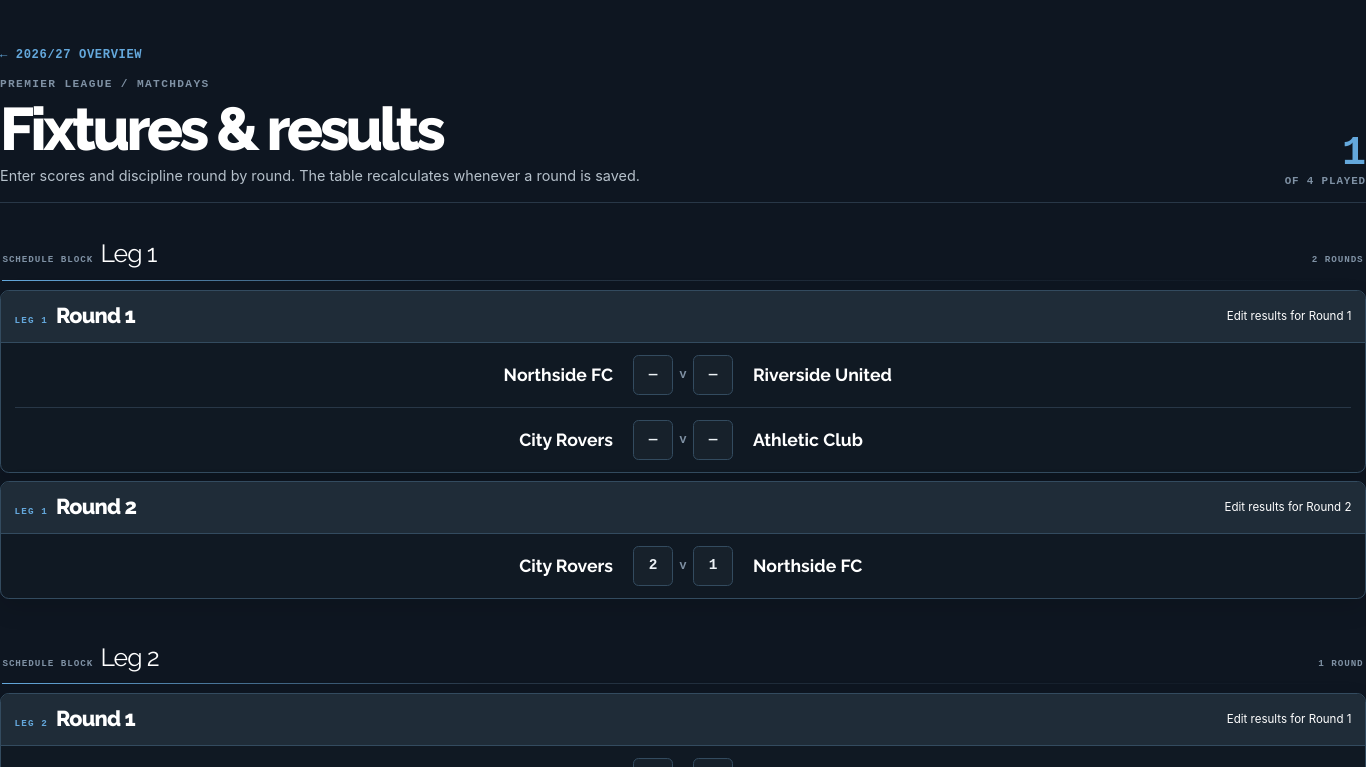
Scenario: season fixtures view › clears a score back to null
Click the button "Edit results for Round 2" at (1288, 507), box [1224,489,1351,525]
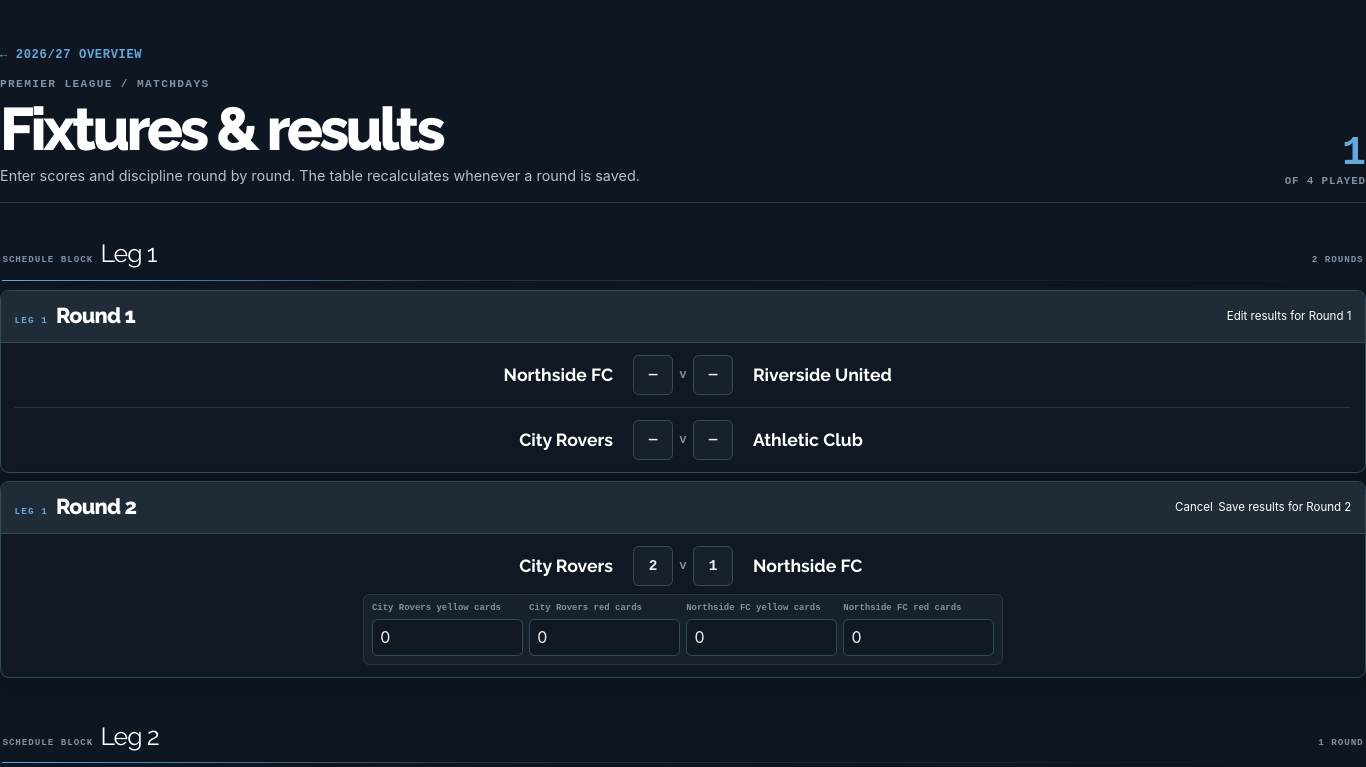
Expected: the 1st number field named "City Rovers score" holds "2"
Clear the 1st number field named "City Rovers score" at (653, 566), box [633,546,673,586]
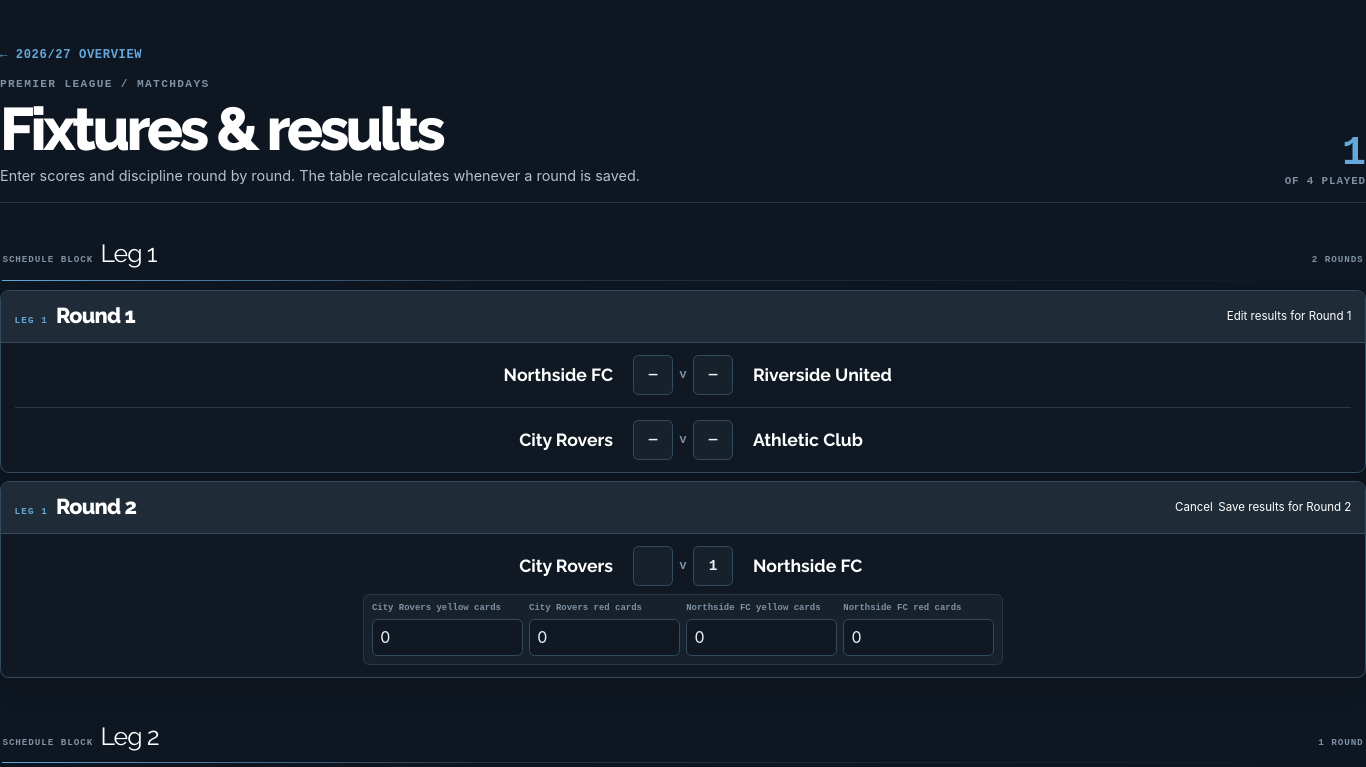
Click the button "Save results for Round 2" at (1285, 507), box [1218,489,1351,525]
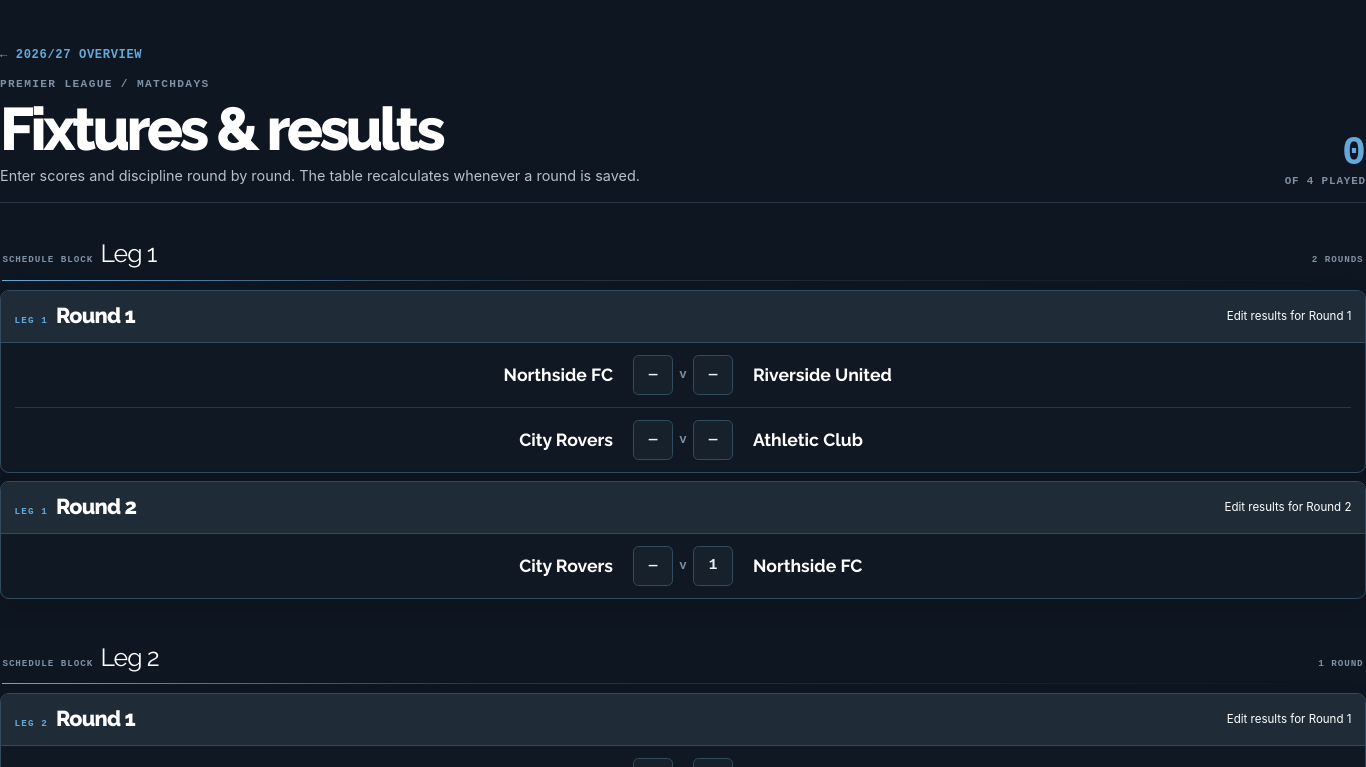
Expected: the element named "Fixture progress" reads "0 of 4 played", [1285,136,1365,186]
